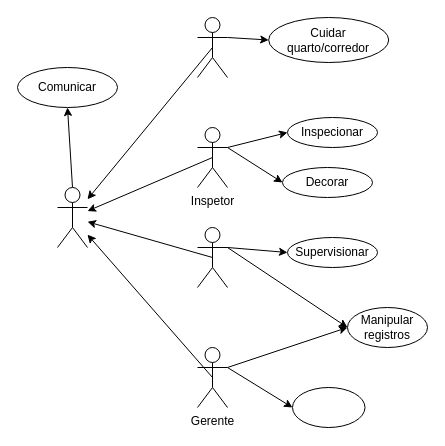
Some shapes in this 445 by 446 pixel diagram are drawn without their labels. The shapes that lost their labels are listed below. From the top down, each one's centre as x and y in pixels, then its label:
At (x=212, y=47): "Camareira".
At (x=72, y=217): "Usuário".
At (x=212, y=257): "Supervisor".
At (x=328, y=407): "Observar".
